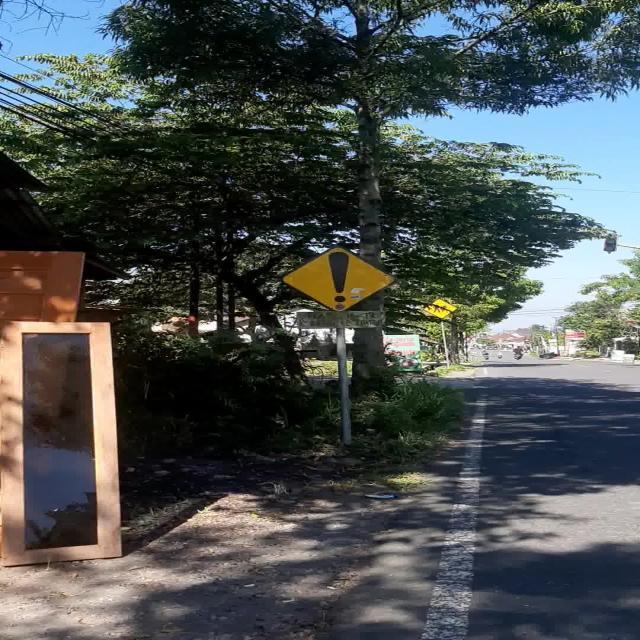Hati-Hati: (279, 246, 397, 312)
